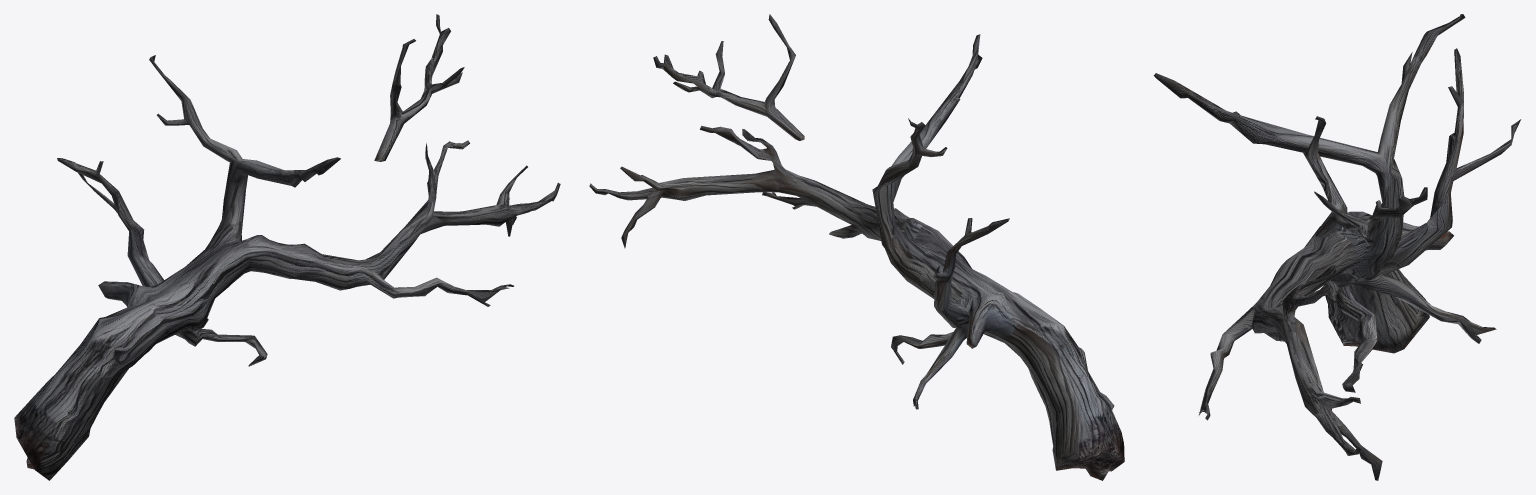
File: prop-deadtree-branch.glb
The picture shows the model from 3 angles, left to right: view 1: azimuth 30°, elevation 25°; view 2: azimuth 150°, elevation 25°; view 3: azimuth 270°, elevation 25°; orthographic projection. The views are drawn at different scales.
Bounding box in the file's own units: 2 × 1.3 × 0.9963.
Materials: 1 (1 with a texture image).
